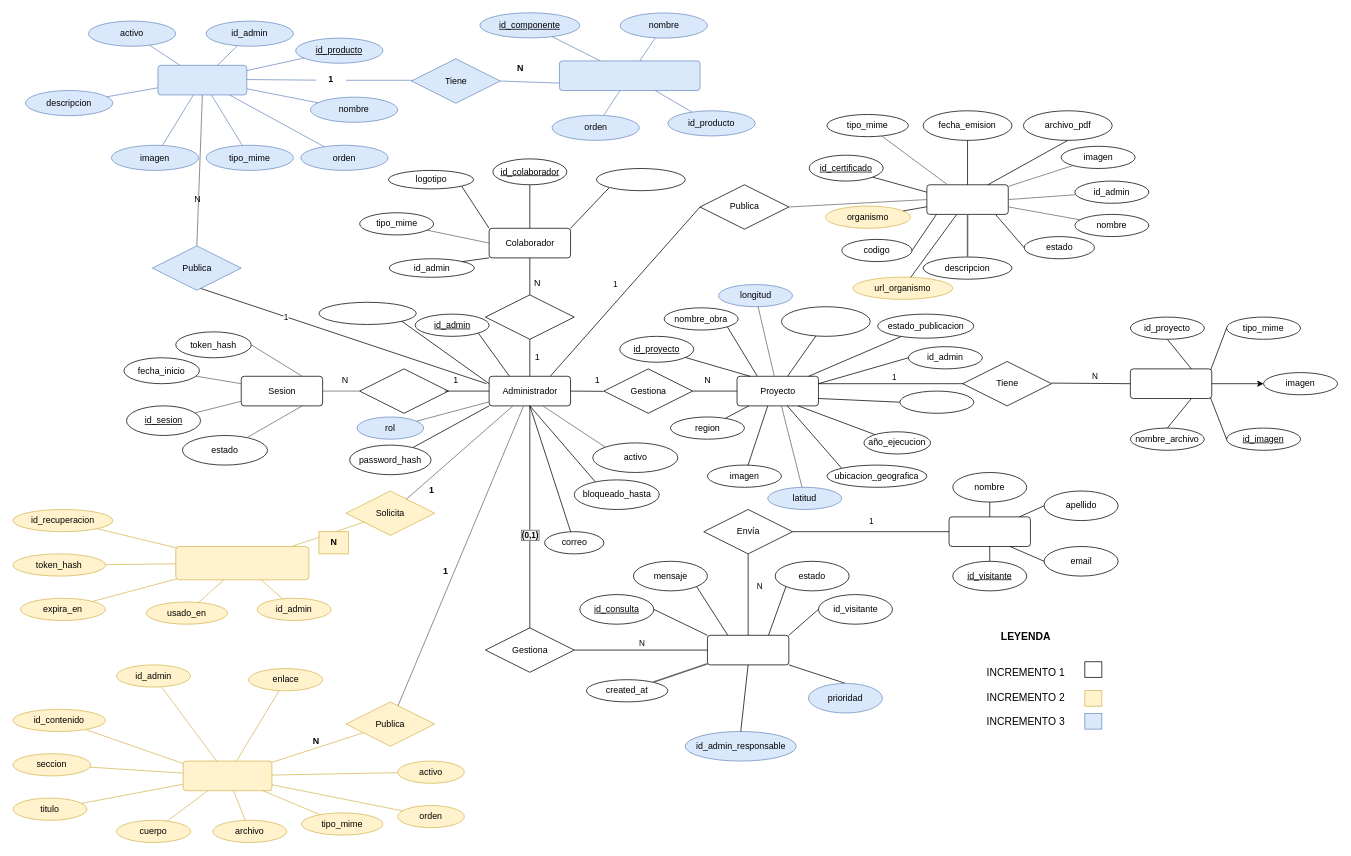
This 1351x856 diagram has some shape labels left out. The shapes that lost their labels are listed below. From the top down, each one's centre as x and y in pixels, then its label:
At [202,80]: "Producto".
At [629,75]: "Componente_Producto".
At [640,179]: "nombre_comercial".
At [967,199]: "Certificado".
At [367,313]: "intentos_fallidos".
At [529,316]: "Crea".
At [825,321]: "descripcion_tecnica".
At [403,390]: "Inicia".
At [936,401]: "categoria".
At [1171,383]: "Imagen_Proyecto".
At [989,531]: "Visitante".
At [242,563]: "Recuperacion_Password".
At [748,650]: "Consulta".
At [227,775]: "Contenido".
